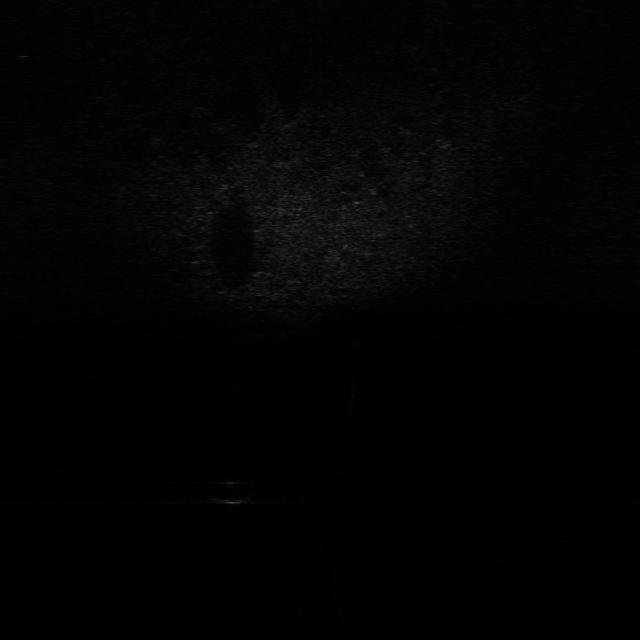ball: (210, 476, 258, 508)
